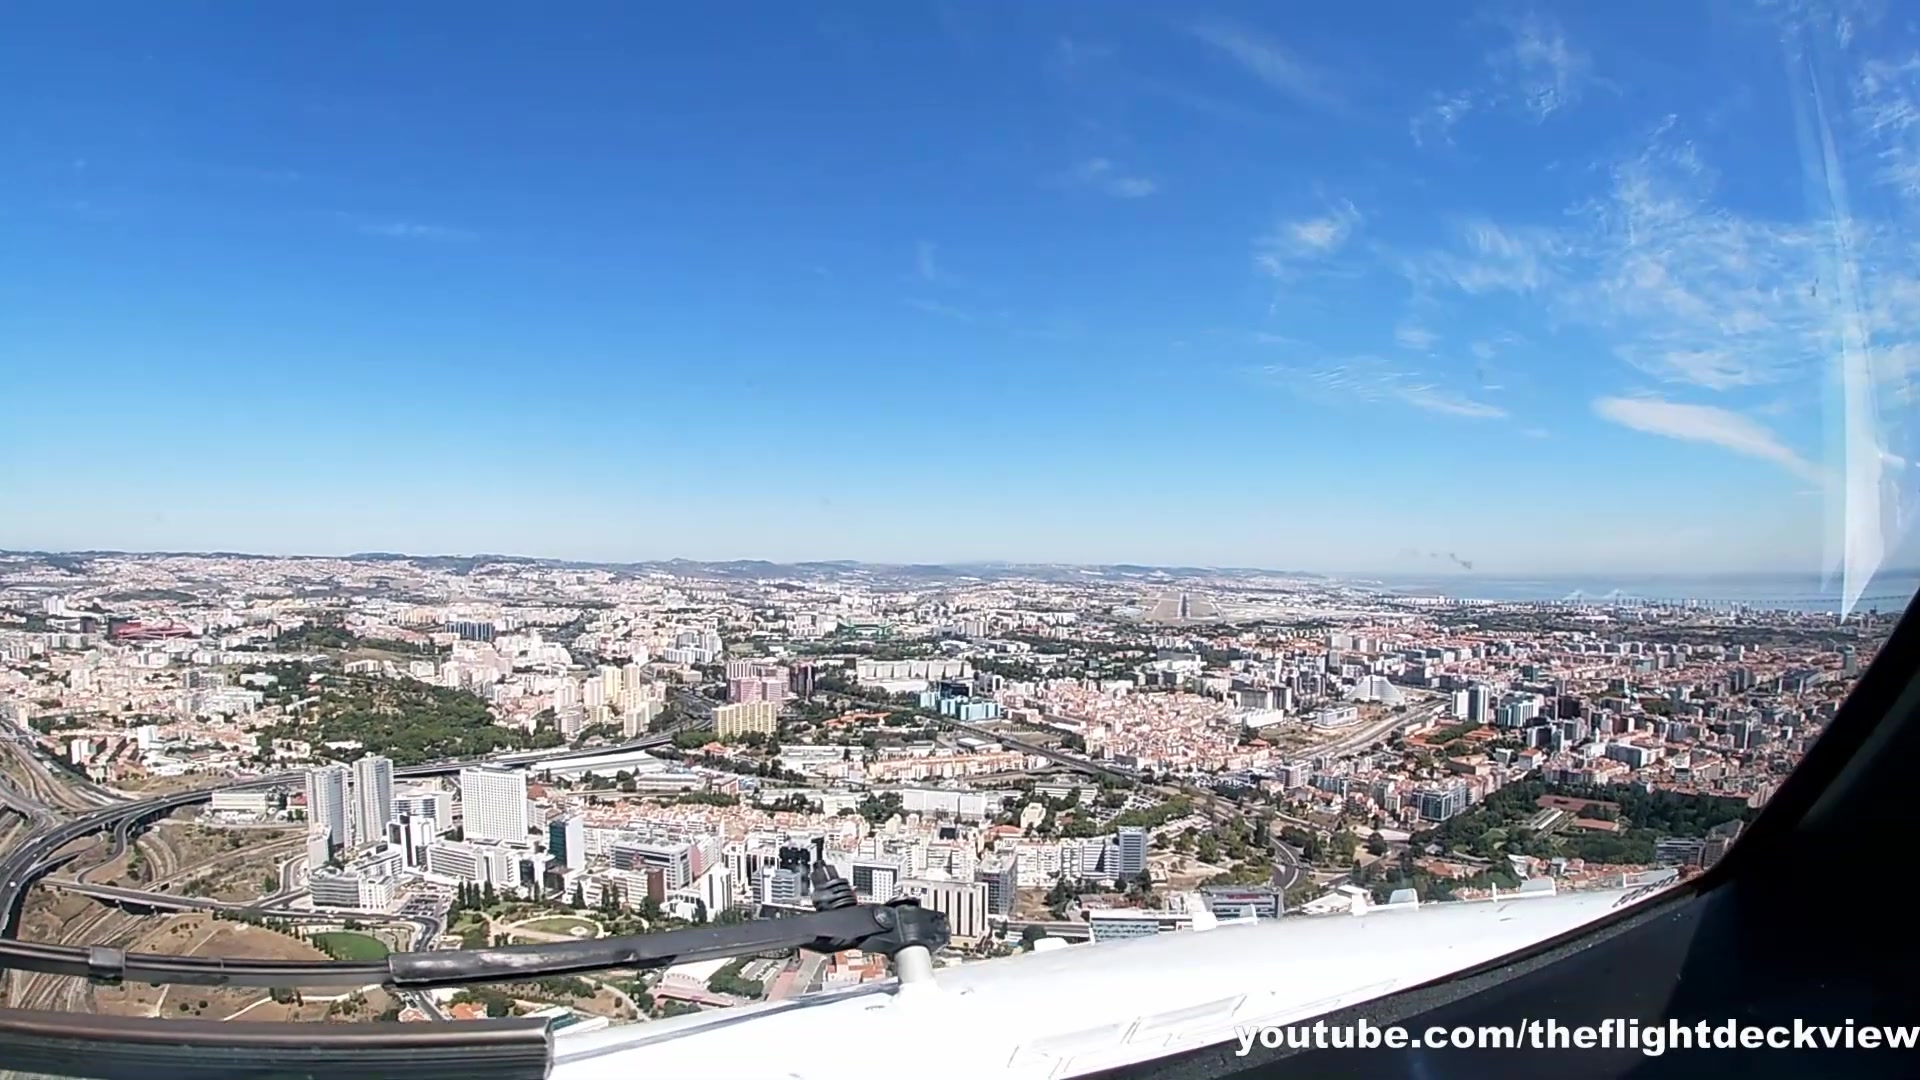runway: (1178, 593, 1193, 618)
